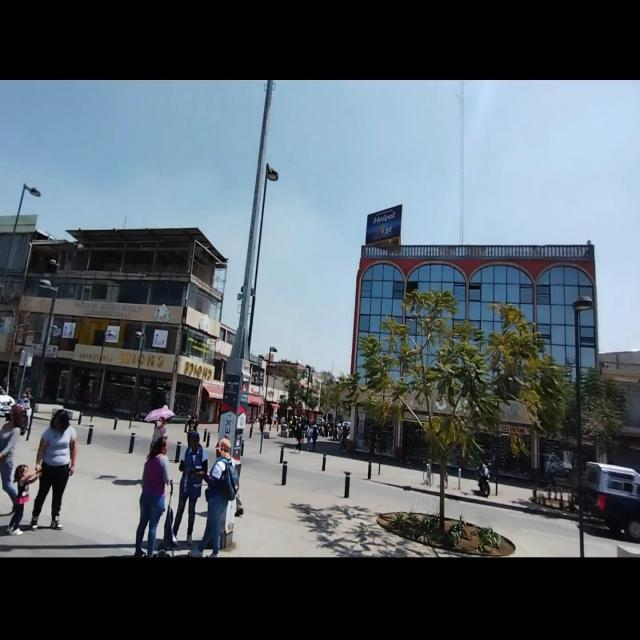adult: (30, 410, 77, 530), (196, 439, 239, 559), (135, 437, 173, 557), (169, 432, 208, 546), (0, 406, 29, 513), (148, 416, 168, 456)
child: (8, 463, 42, 536)
